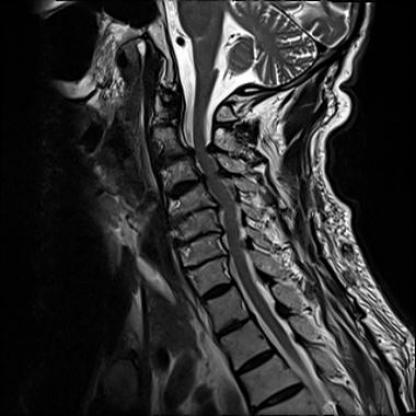Disc Bulgerotation: (178, 229, 222, 246), (166, 180, 205, 198), (180, 258, 226, 272), (172, 206, 214, 219), (158, 154, 190, 169)
Osteophytesrotation: (178, 229, 222, 246), (166, 179, 205, 198), (180, 258, 226, 272), (172, 206, 214, 219), (158, 154, 190, 169)
